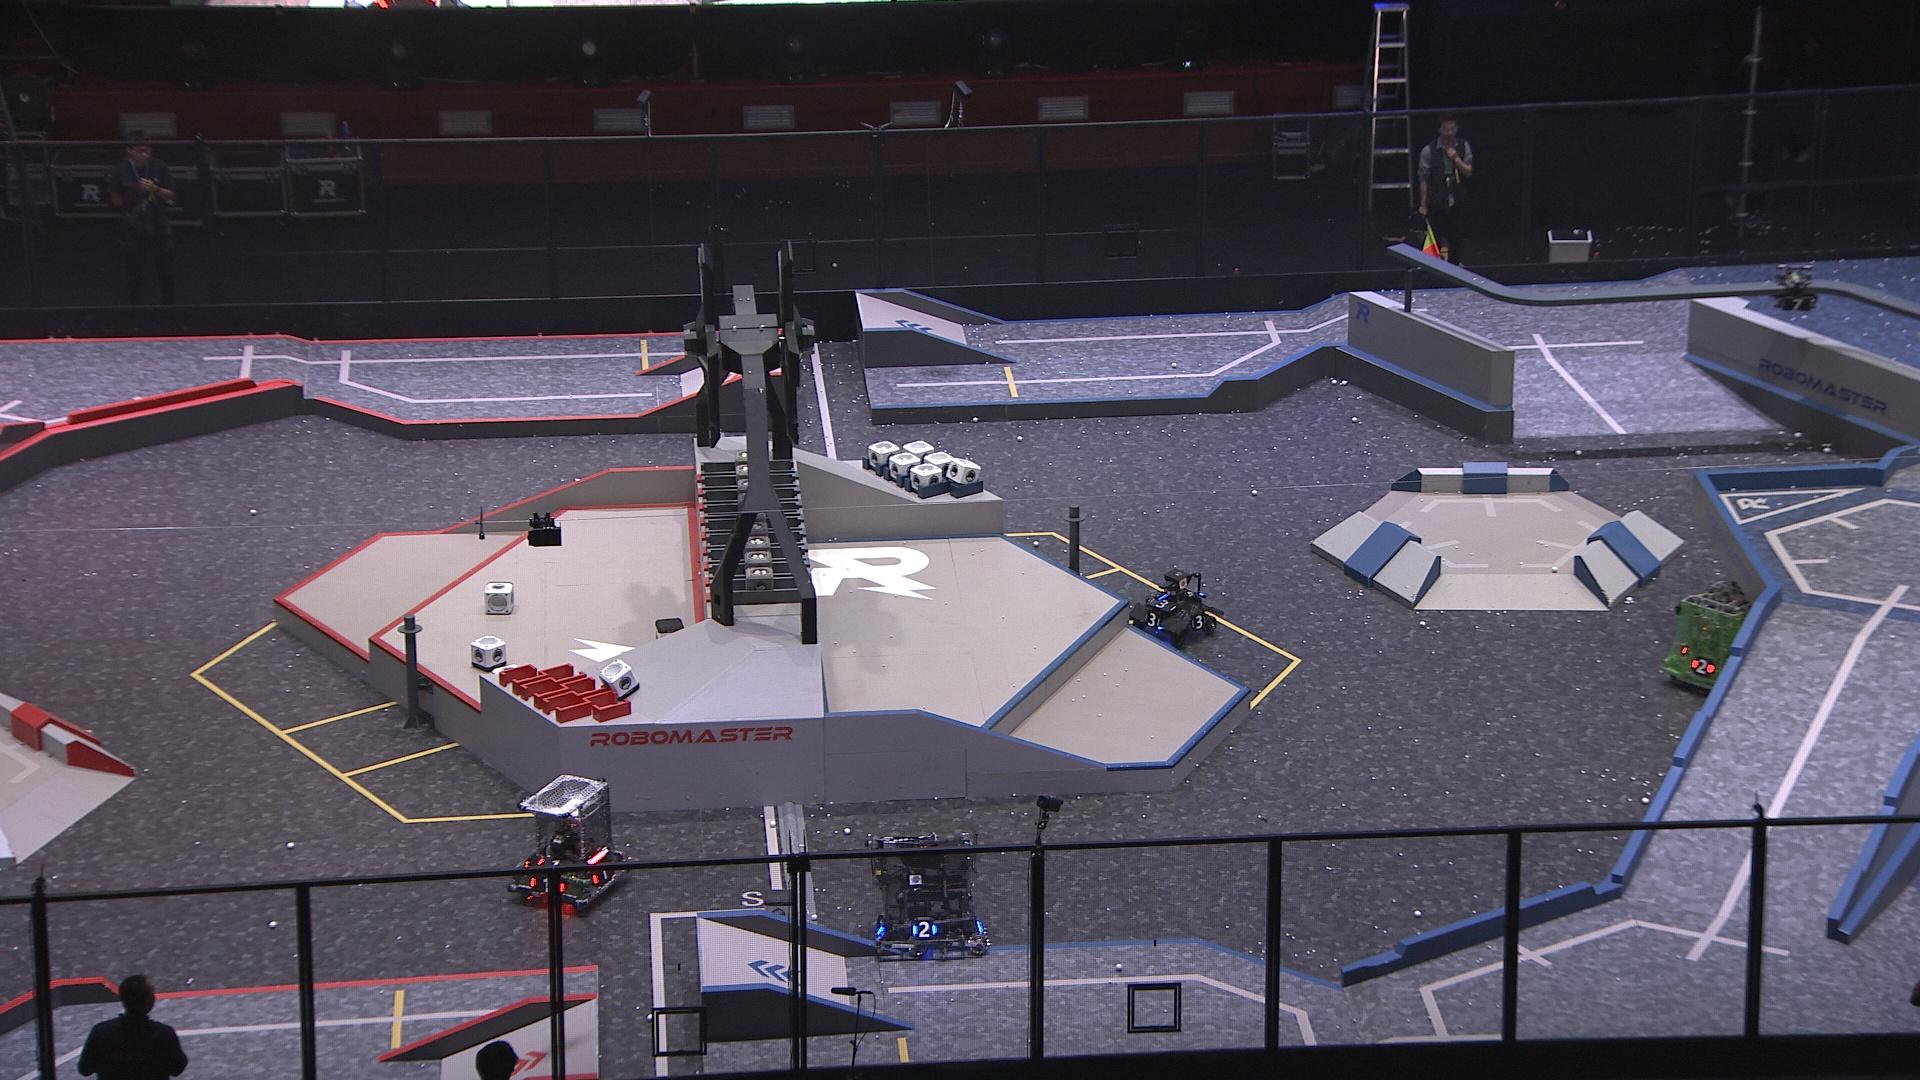armor: (527, 874, 568, 895), (913, 918, 939, 943), (1779, 295, 1816, 313), (1689, 655, 1718, 676), (1147, 595, 1179, 612), (537, 855, 574, 868), (588, 866, 609, 884), (1143, 612, 1160, 628), (1191, 612, 1207, 628)
car: (861, 829, 994, 960), (506, 773, 632, 911), (1660, 578, 1780, 702), (1130, 566, 1224, 651)
watcher: (1770, 262, 1818, 314)
